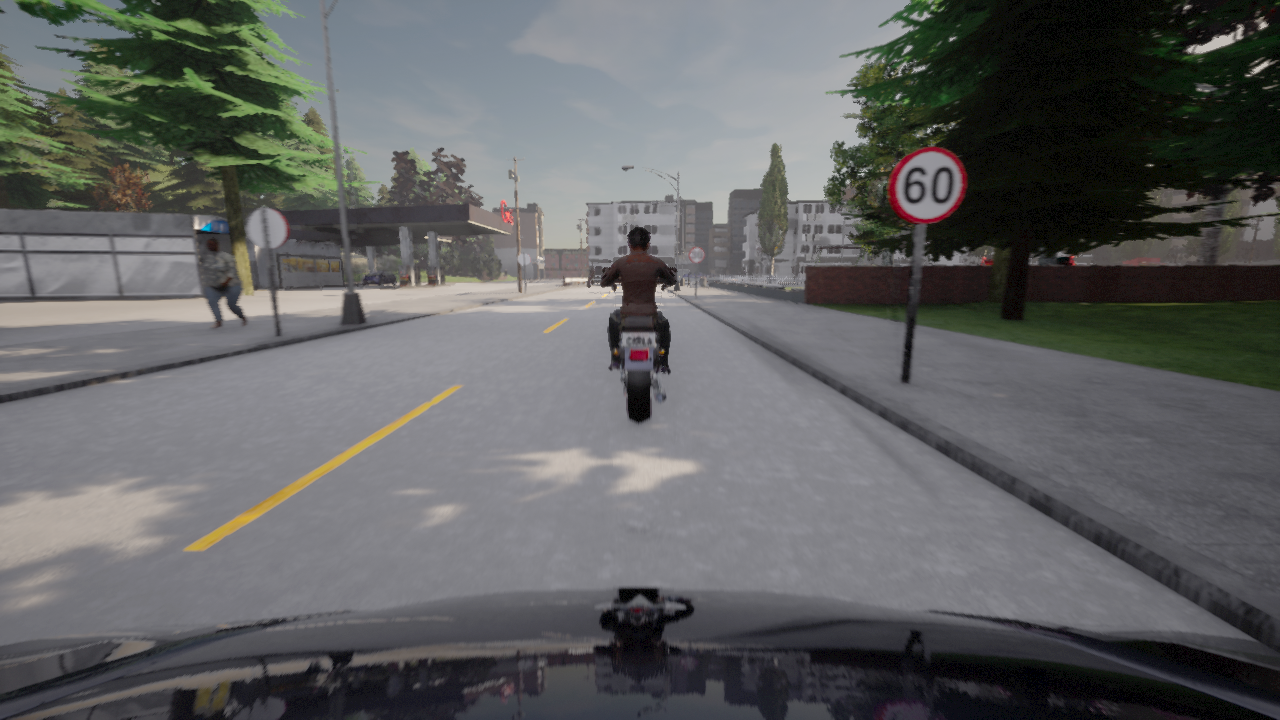cyclist: (0, 588, 1279, 719), (603, 268, 676, 424), (362, 270, 396, 286), (702, 273, 717, 281), (683, 272, 702, 276), (590, 275, 592, 285)
pedestrian: (201, 238, 247, 328), (562, 274, 564, 279)
